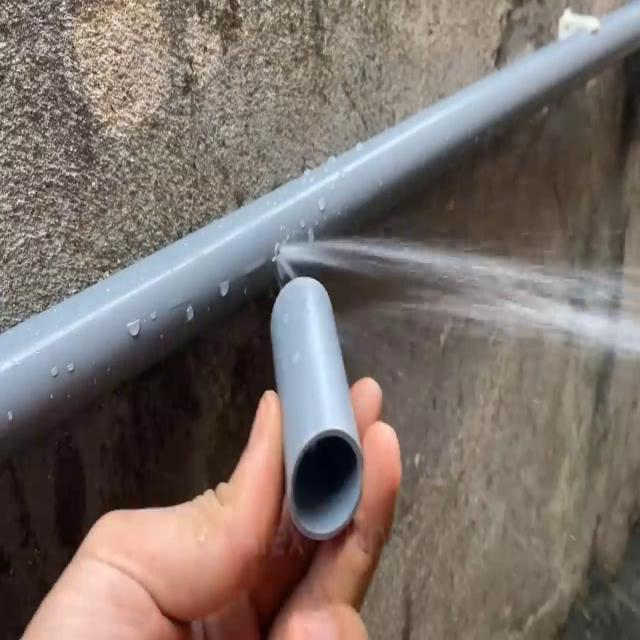leak: (269, 251, 640, 365)
